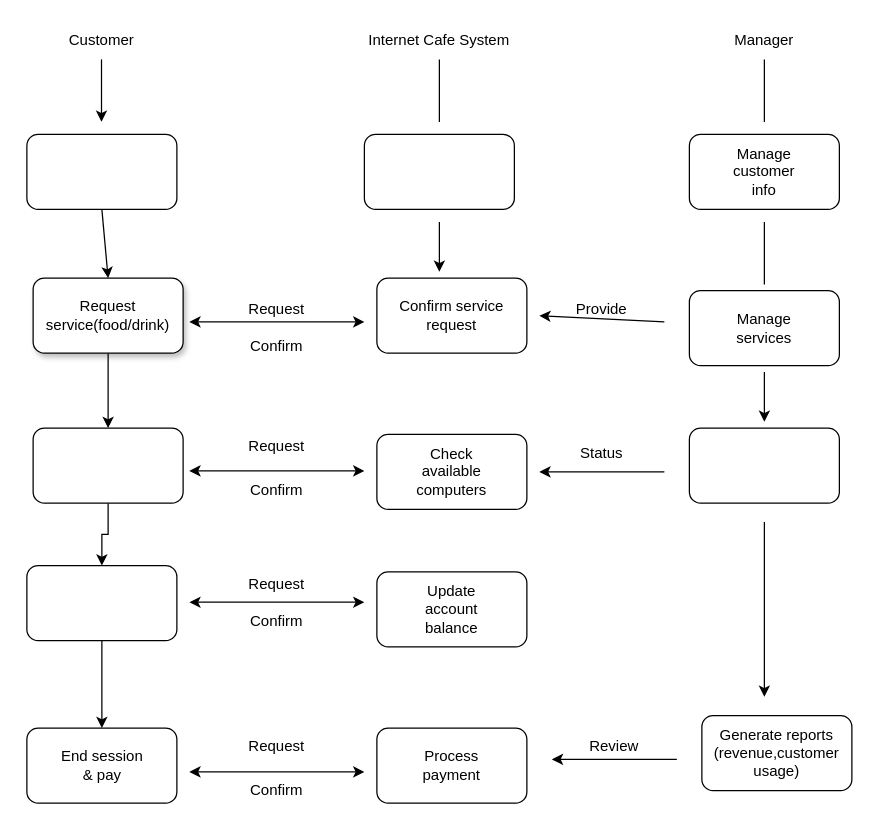
The diagram is 874 pixels wide and 830 high, and some of its shapes have lost their labels. Each missing label, with the centre of its shape:
"Add money to account" goes at (x=101, y=602).
"Monitor computer status & start/stop computer" goes at (x=763, y=465).
"Register member" goes at (x=101, y=171).
"Request computer" goes at (x=107, y=465).
"Store member information" goes at (x=438, y=171).
